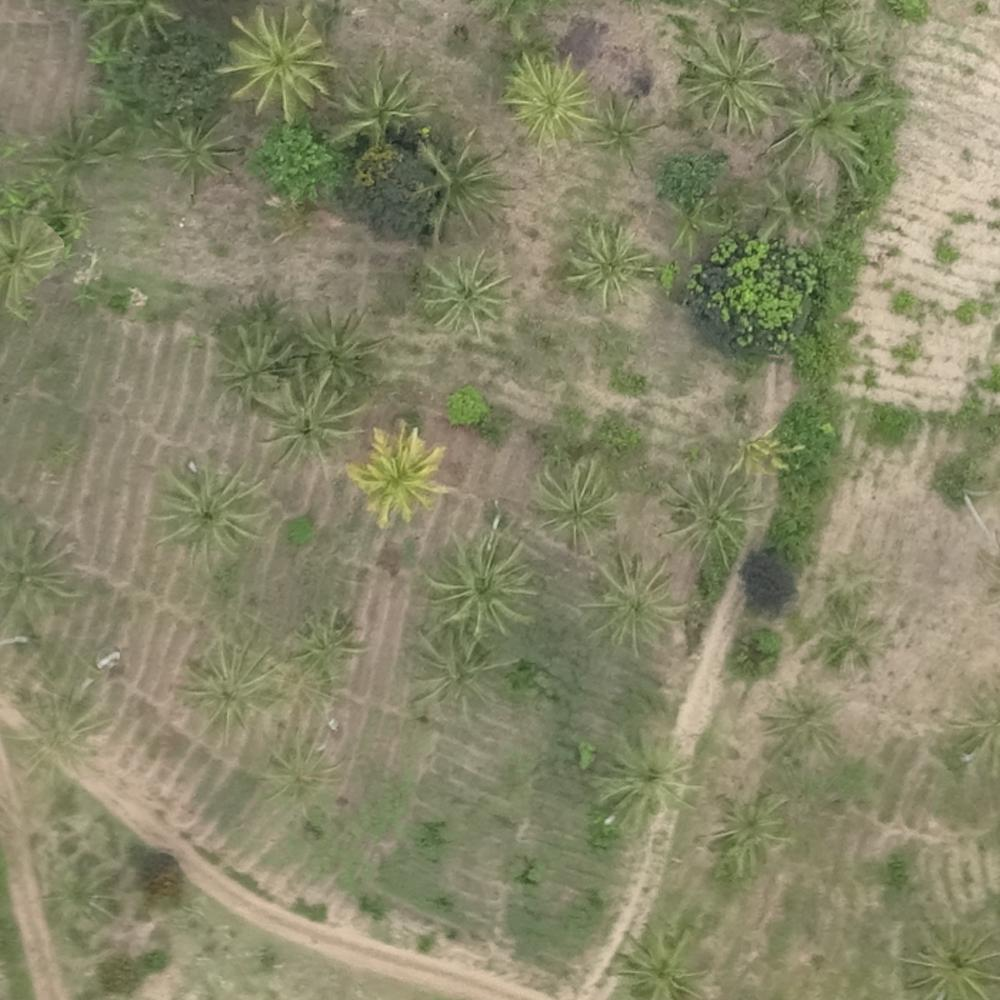Palm: (424, 531, 533, 640), (222, 7, 332, 113), (768, 73, 874, 181), (657, 461, 761, 563), (153, 462, 260, 561), (678, 23, 776, 131), (404, 624, 507, 717), (176, 640, 276, 734), (260, 369, 360, 462), (502, 50, 597, 146), (414, 135, 507, 232), (418, 248, 511, 338), (596, 733, 693, 819), (336, 54, 429, 143), (350, 429, 442, 518), (588, 556, 680, 645), (897, 919, 1000, 998), (145, 110, 236, 197), (21, 108, 111, 195), (288, 305, 379, 389), (531, 460, 618, 547), (567, 218, 655, 301), (707, 788, 795, 867), (760, 678, 838, 762), (616, 926, 708, 997), (208, 325, 285, 408), (1, 212, 57, 315), (584, 89, 659, 163), (741, 177, 824, 243), (291, 610, 364, 674), (662, 190, 730, 255)
